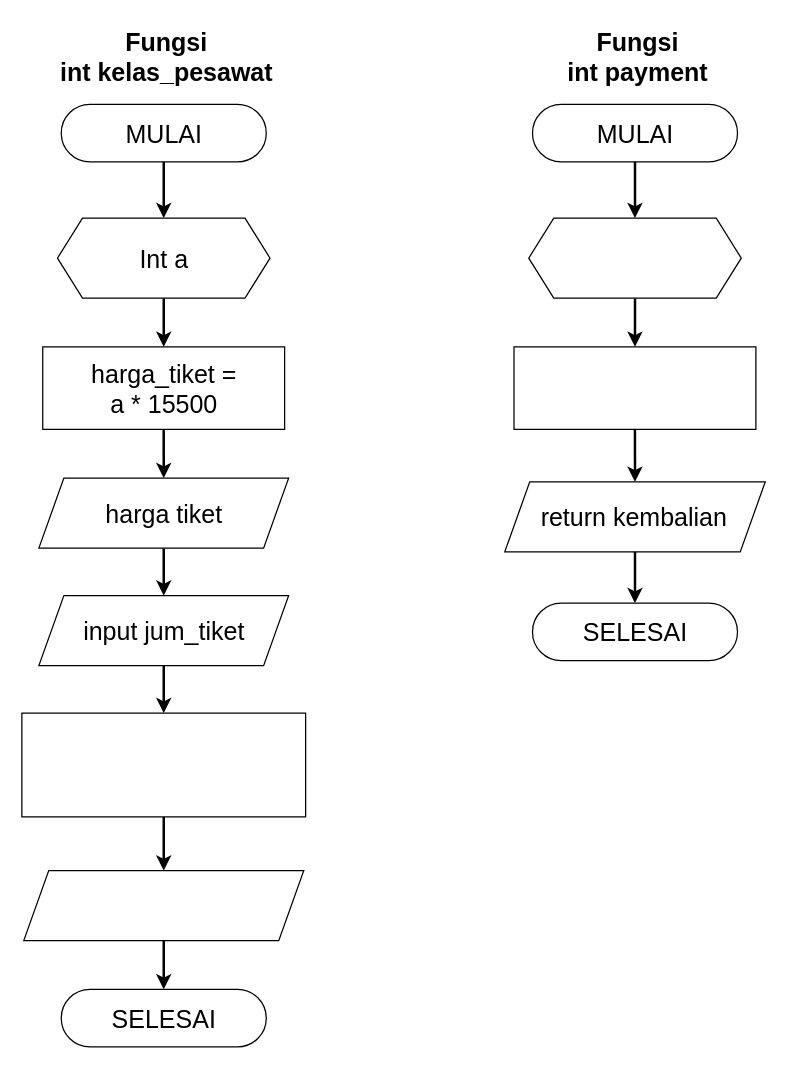
The diagram is 788 pixels wide and 1069 high, and some of its shapes have lost their labels. Each missing label, with the centre of its shape:
"Int b" goes at pixel 634 257.
"kembalian = b - total_harga" goes at pixel 634 387.
"return total_harga" goes at pixel 163 905.
"total_harga = harga_tiket * jum_tiket" goes at pixel 163 764.
